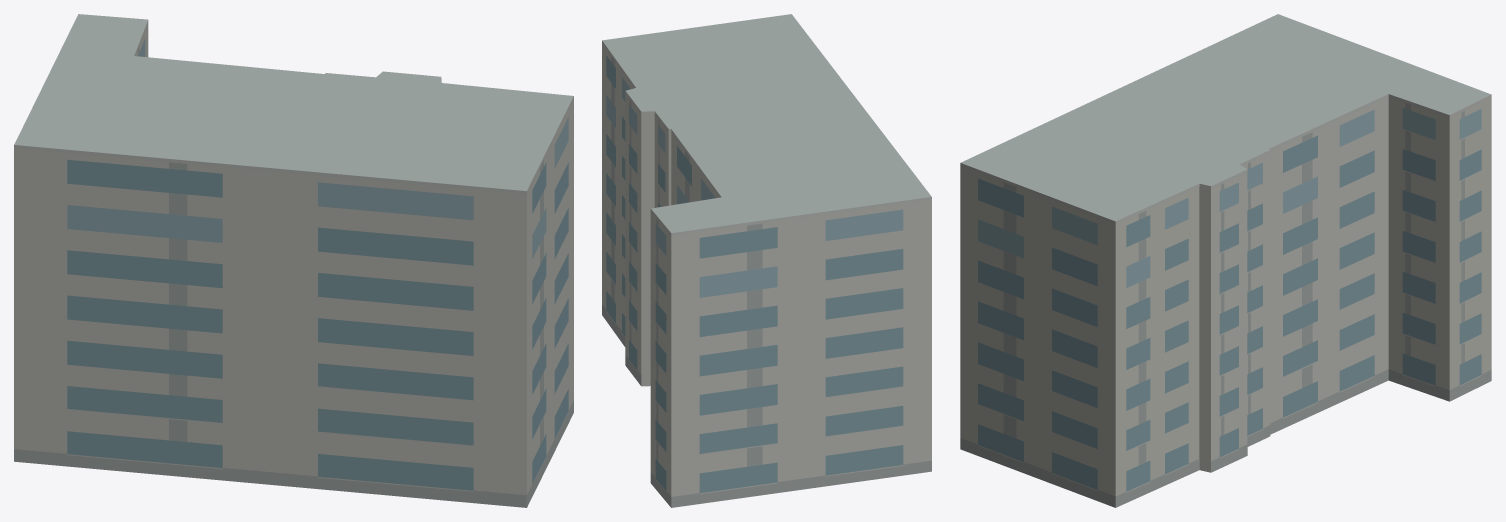
File: survey-upis-32712070.glb
The picture shows the model from 3 angles, left to right: view 1: azimuth 30°, elevation 25°; view 2: azimuth 150°, elevation 25°; view 3: azimuth 270°, elevation 25°; orthographic projection. The views are drawn at different scales.
Visible parts, largest first — view 1: survey-upis-32712070.tmp; view 2: survey-upis-32712070.tmp; view 3: survey-upis-32712070.tmp.
Boxes of the visible parts, <box> form: survey-upis-32712070.tmp: <box>14,14,573,507</box>; survey-upis-32712070.tmp: <box>602,14,931,507</box>; survey-upis-32712070.tmp: <box>960,14,1491,507</box>.
Size of the model in its own units: 34.32 by 22.1 by 37.14.
